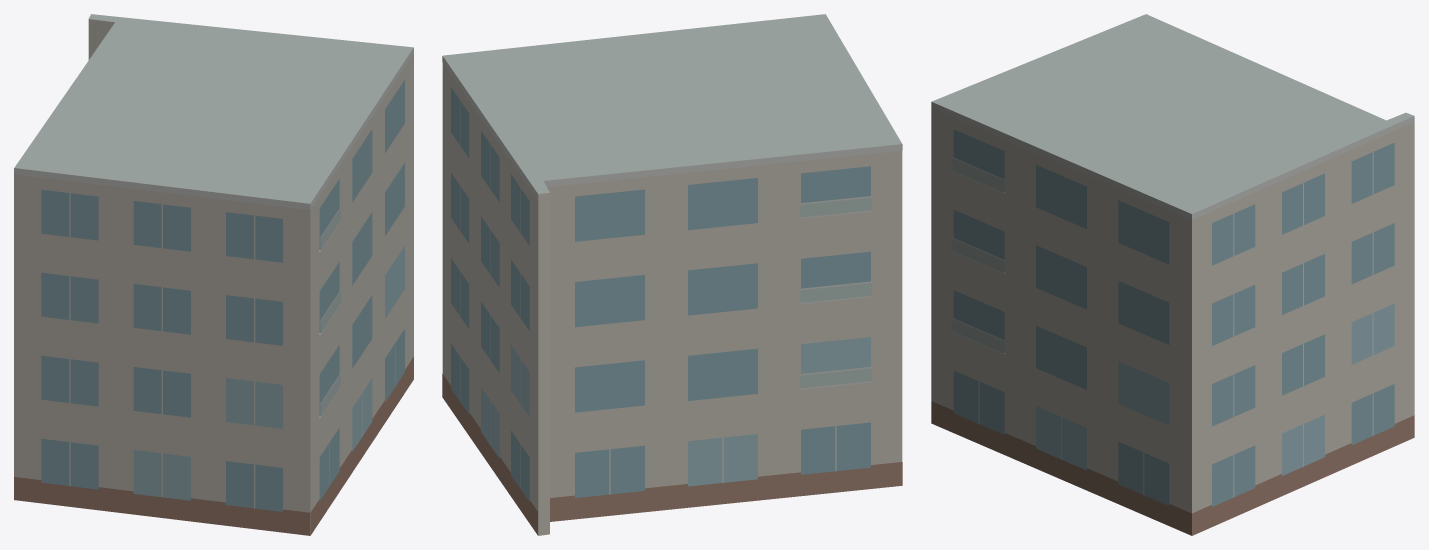
The model's file is survey-upis-32590190.glb.
The picture shows the model from 3 angles, left to right: view 1: azimuth 30°, elevation 25°; view 2: azimuth 150°, elevation 25°; view 3: azimuth 270°, elevation 25°; orthographic projection. The views are drawn at different scales.
Parts seen in each view (by area): view 1: survey-upis-32590190.tmp; view 2: survey-upis-32590190.tmp; view 3: survey-upis-32590190.tmp.
Part boxes in pixels (<box>): survey-upis-32590190.tmp: <box>14,14,413,535</box>; survey-upis-32590190.tmp: <box>442,14,902,535</box>; survey-upis-32590190.tmp: <box>931,14,1414,535</box>.
Size of the model in its own units: 17.09 by 12.8 by 17.43.
